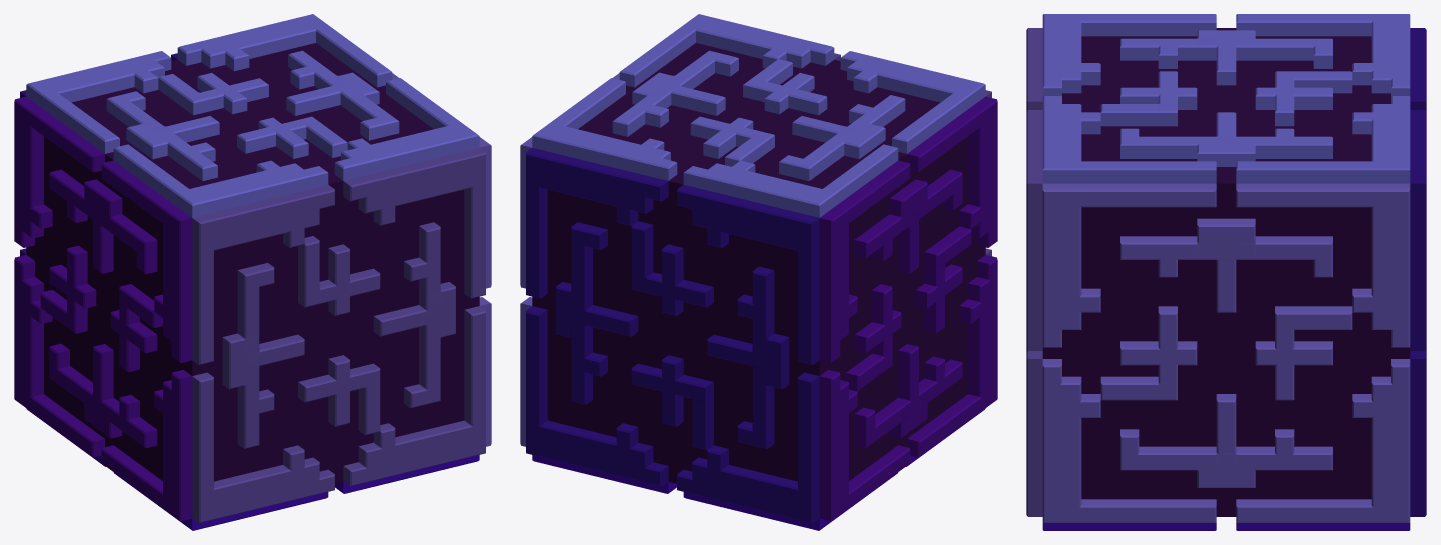
The model's file is Iteration2level2TrevorV3.fbx.
3 renders of one model, left to right at view 1: azimuth 30°, elevation 25°; view 2: azimuth 150°, elevation 25°; view 3: azimuth 270°, elevation 25°, orthographic. The views are drawn at different scales.
Visible parts, largest first — view 1: Level_2_BottomWalls, Cube; view 2: Level_2_BottomWalls, Cube; view 3: Level_2_BottomWalls, Cube.
Part boxes in pixels (x1,y1,x2,y2): Level_2_BottomWalls: (14, 14, 491, 530); Cube: (26, 43, 479, 483); Level_2_BottomWalls: (520, 14, 997, 530); Cube: (532, 43, 985, 483); Level_2_BottomWalls: (1026, 14, 1426, 530); Cube: (1042, 28, 1410, 516).
Size of the model in its own units: 62.03 by 62.03 by 62.03.
